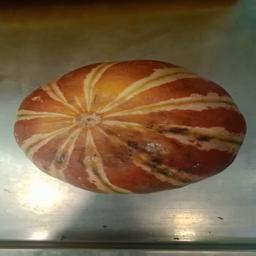Melon Semirotten: (12, 55, 247, 201)
